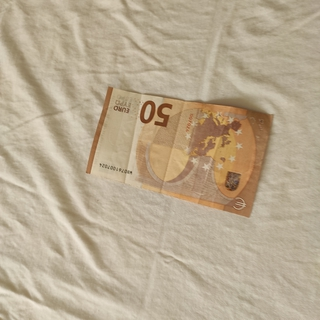50EUROBack: (84, 84, 275, 219)
